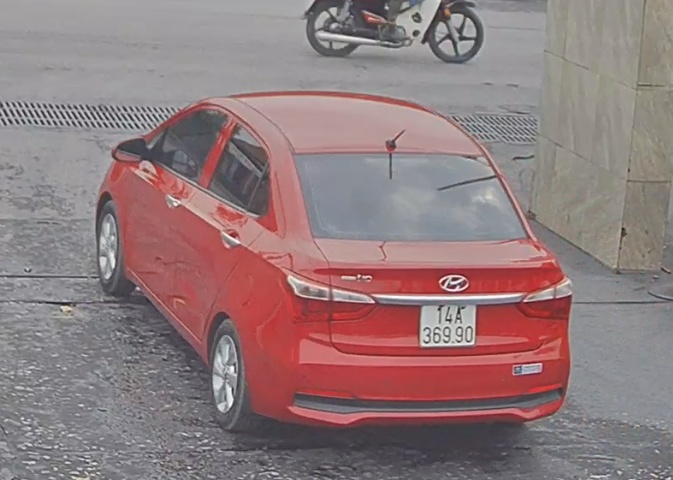vehicle plate: (412, 296, 476, 347)
